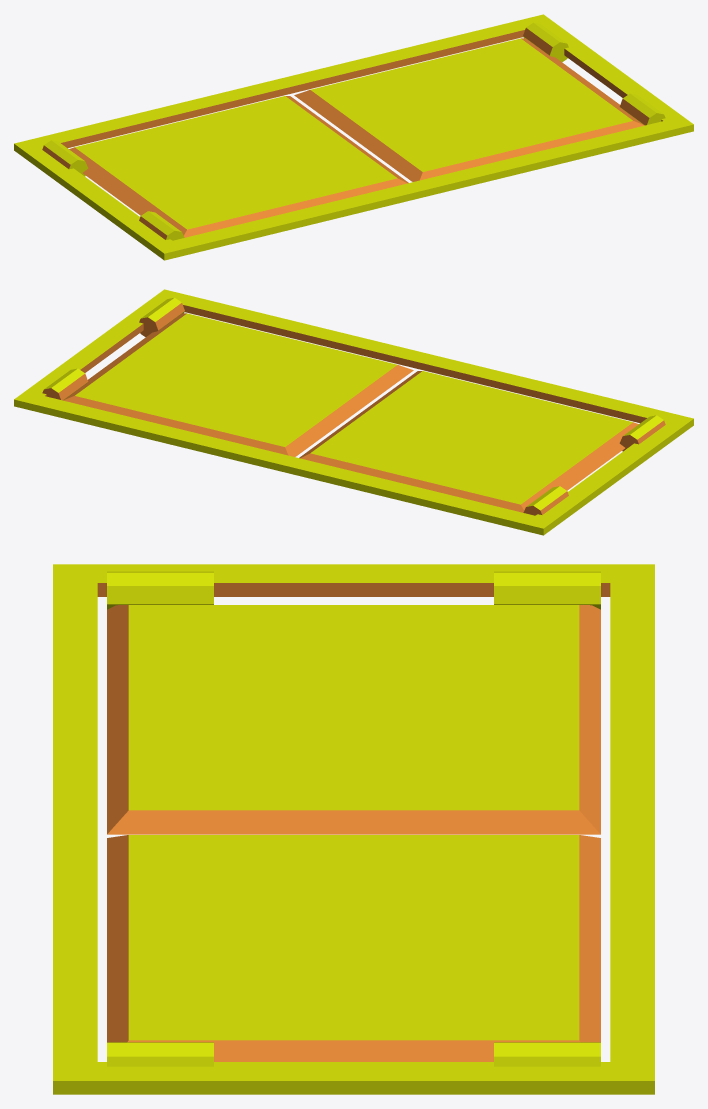
Rendered from Mechanical_Trap_T2_InActive.fbx.
The picture shows the model from 3 angles, top to bottom: view 1: azimuth 30°, elevation 25°; view 2: azimuth 150°, elevation 25°; view 3: azimuth 270°, elevation 25°; orthographic projection. The views are drawn at different scales.
Visible parts, largest first — view 1: Mechanical_Trap_T2_InActive; view 2: Mechanical_Trap_T2_InActive; view 3: Mechanical_Trap_T2_InActive.
Boxes of the visible parts, x1,y1,x2,y2 form: Mechanical_Trap_T2_InActive: (14,14,693,260); Mechanical_Trap_T2_InActive: (14,289,693,535); Mechanical_Trap_T2_InActive: (53,564,654,1094).
Size of the model in its own units: 1.94 by 0.9524 by 0.0756.
